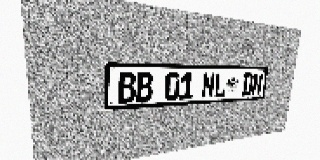0: (164, 72, 180, 101)
1: (179, 72, 194, 100)
B: (118, 72, 136, 103), (136, 72, 153, 102)
D: (241, 73, 254, 96)
L: (213, 73, 227, 98)
N: (201, 72, 215, 98), (251, 73, 263, 95)
